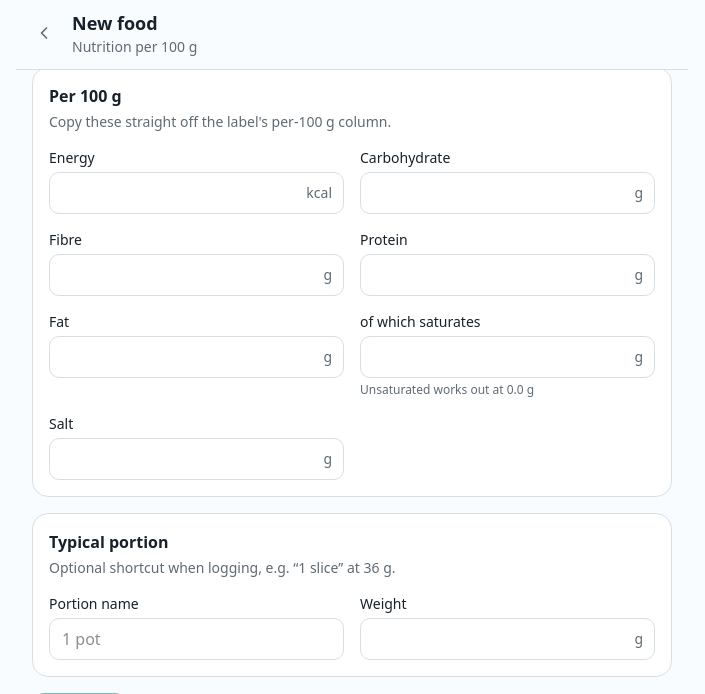
Test: FoodEditPage — new food › shows the derived unsaturated fat as the user types
(page scrolled)
Step 1. Type "20" into the number field labelled "Fat" → (196, 357), box [49,336,344,378]
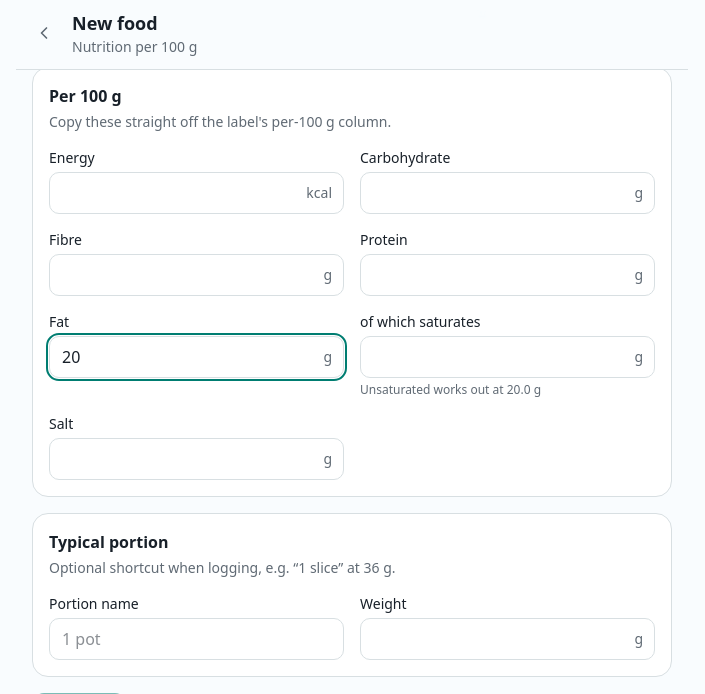
Step 2. Type "5" into the number field labelled "of which saturates" → (508, 357), box [360,336,655,378]
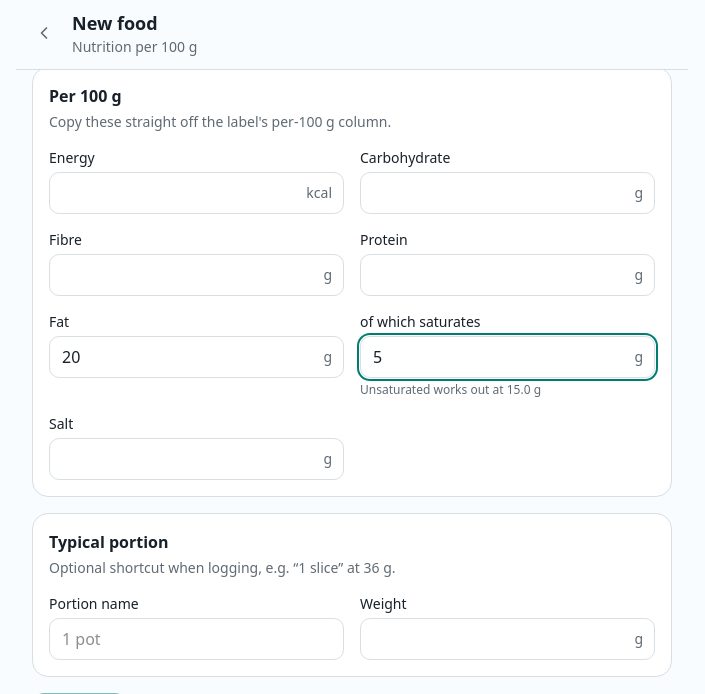
Now the text "Unsaturated works out at 15.0 g" is shown, box [360,381,541,398]
